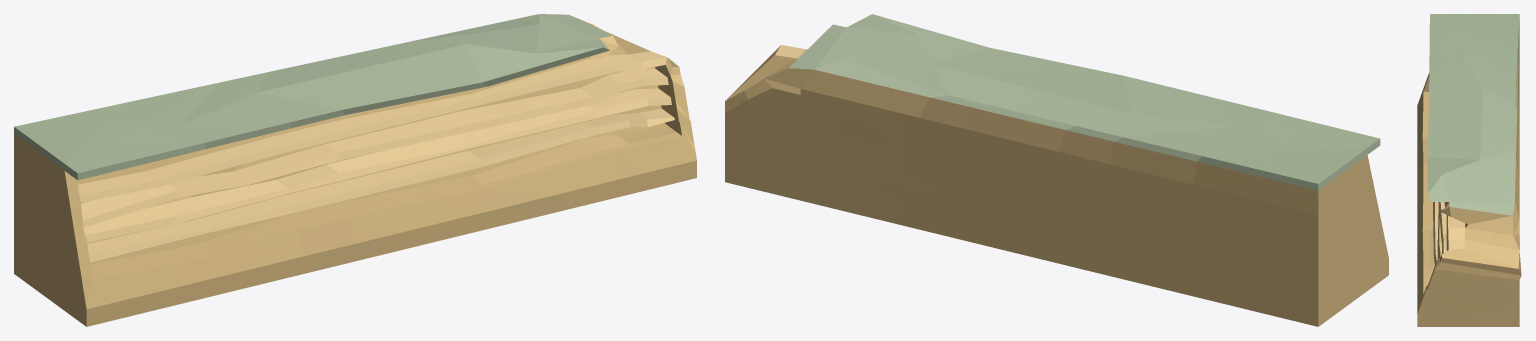
The model's file is desk_1.glb.
3 views of the same model, side by side, from view 1: azimuth 30°, elevation 25°; view 2: azimuth 150°, elevation 25°; view 3: azimuth 270°, elevation 25° (orthographic). The views are drawn at different scales.
Visible parts, largest first — view 1: desk_1; view 2: desk_1; view 3: desk_1.
Part boxes in pixels (x1=…): desk_1: x1=14, y1=14, x2=696, y2=326; desk_1: x1=725, y1=14, x2=1388, y2=326; desk_1: x1=1417, y1=14, x2=1521, y2=326.
Size of the model in its own units: 3.92 by 0.9023 by 0.8224.
Materials: 1 (1 with a texture image).
